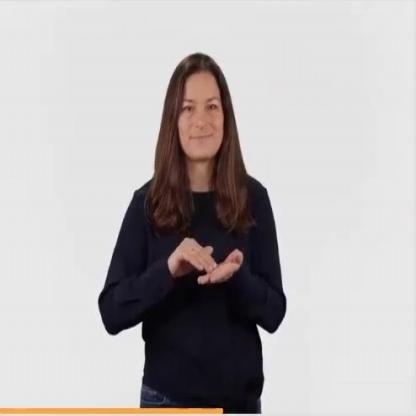ExcuseMe: (154, 223, 240, 299)
